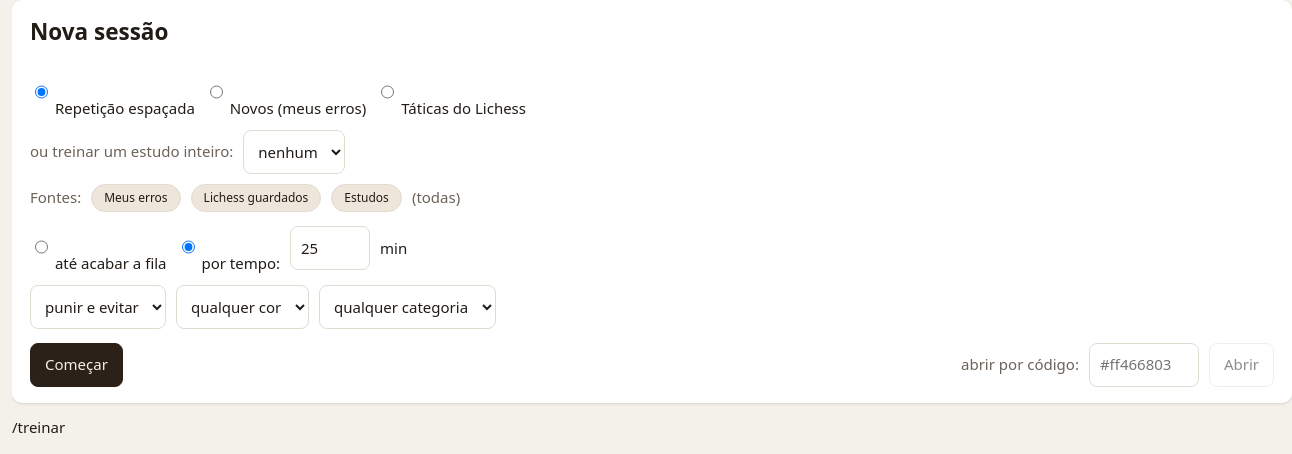
Scenario: Enter no campo do código abre do mesmo jeito
The width and height of the screenshot is (1292, 454).
Type "ff466803" into the field named "Código do exercício".
click(1144, 365); type("ff466803")  # box [1089,343,1199,387]
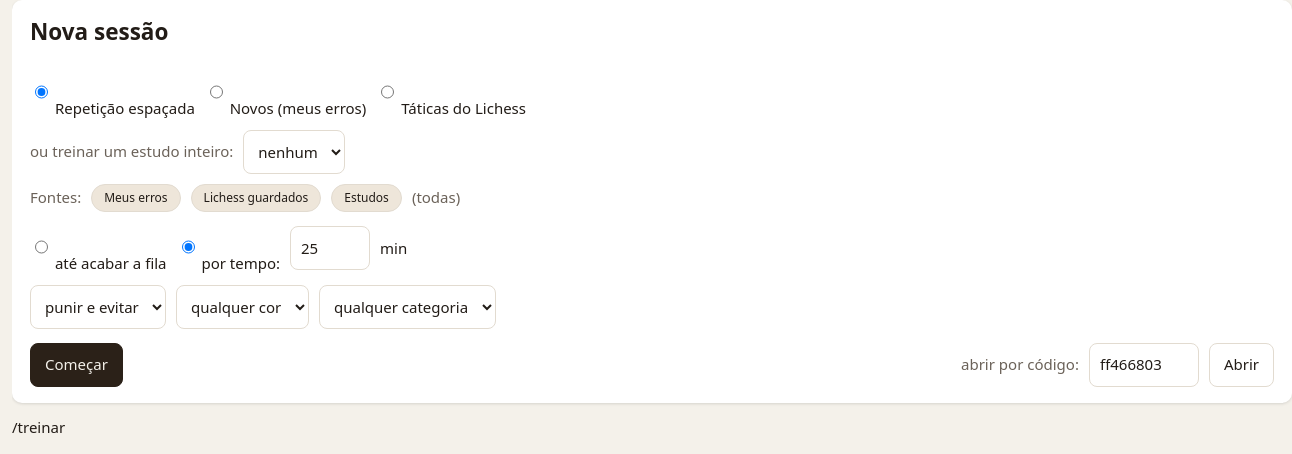
Press Enter in the field named "Código do exercício", box [1089,343,1199,387]
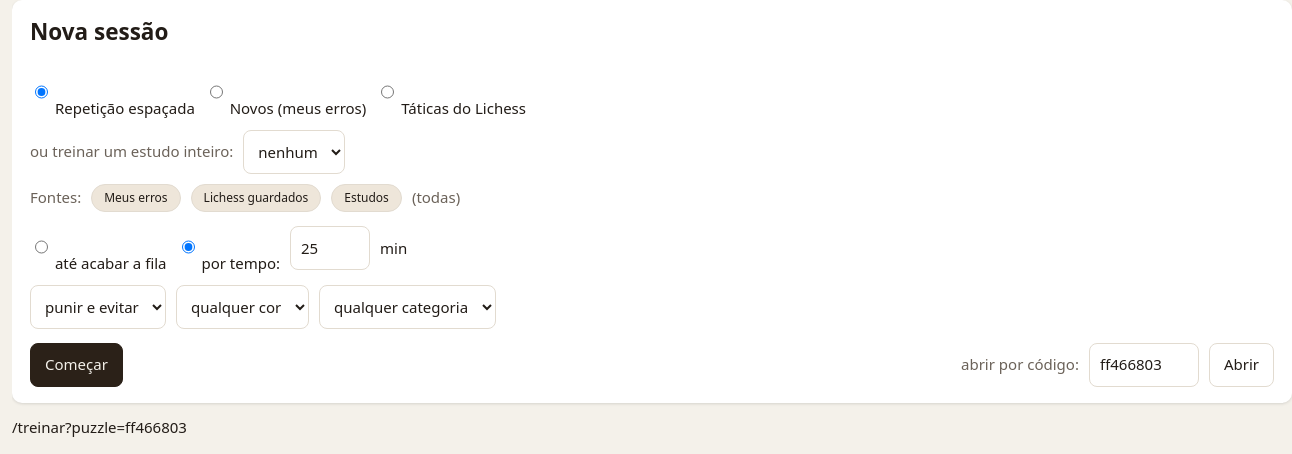
Expected: the text with test id "where" reads "/treinar?puzzle=ff466803", [12,417,187,437]
